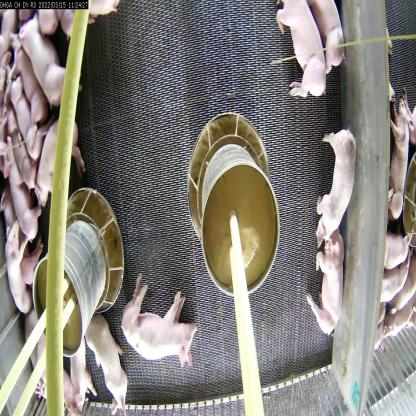Pig: (23, 95, 90, 207), (115, 278, 196, 364), (270, 0, 335, 98), (306, 206, 351, 334), (317, 114, 356, 251), (20, 16, 72, 112), (6, 145, 47, 252), (10, 67, 51, 172), (90, 306, 131, 411), (0, 212, 32, 317), (31, 342, 76, 415), (312, 0, 353, 75), (65, 335, 93, 414)
